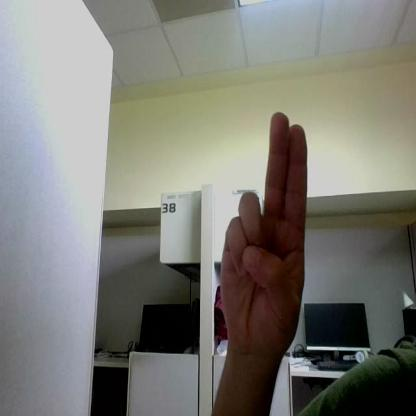U: (220, 113, 306, 346)
